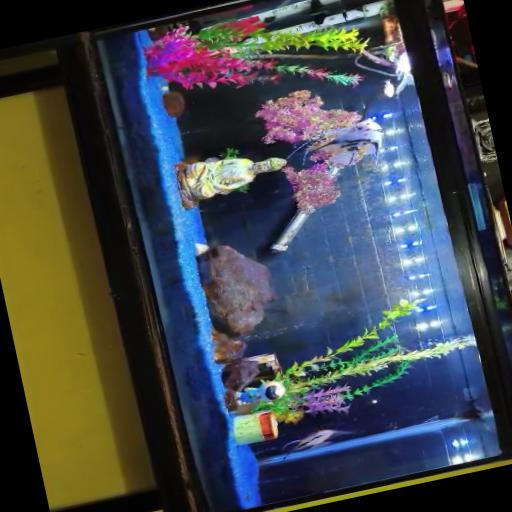Fish: (308, 118, 382, 165), (282, 428, 350, 459), (394, 51, 413, 95), (382, 80, 395, 97)
